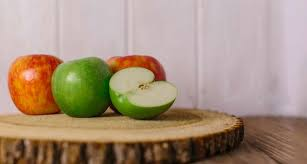apple: (50, 59, 113, 115), (9, 58, 64, 115), (107, 55, 164, 85)
damaged_apple: (107, 67, 179, 116)
